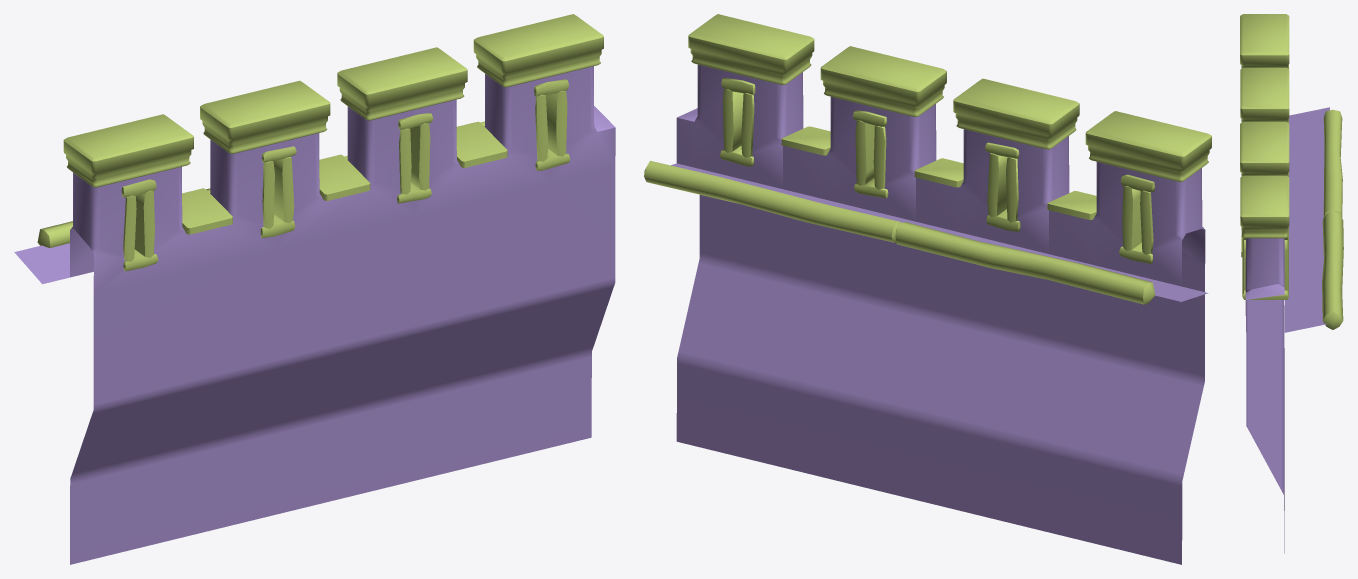
Rendered from building_tower_top.fbx.
The picture shows the model from 3 angles, left to right: view 1: azimuth 30°, elevation 25°; view 2: azimuth 150°, elevation 25°; view 3: azimuth 270°, elevation 25°; orthographic projection. The views are drawn at different scales.
Visible parts, largest first — view 1: Cube.171, Cube.172; view 2: Cube.171, Cube.172; view 3: Cube.171, Cube.172.
Boxes of the visible parts, bbox=[...] form: Cube.171: bbox=[14, 66, 615, 564]; Cube.172: bbox=[37, 14, 603, 271]; Cube.171: bbox=[671, 64, 1208, 564]; Cube.172: bbox=[644, 14, 1211, 304]; Cube.171: bbox=[1245, 107, 1329, 553]; Cube.172: bbox=[1240, 14, 1343, 329].
Size of the model in its own units: 10.06 by 7.43 by 2.03.
